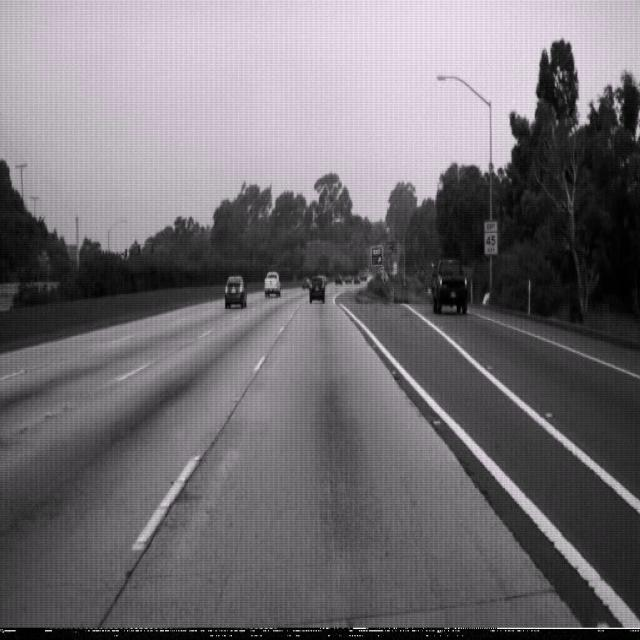speedLimit45: (483, 218, 498, 255)
